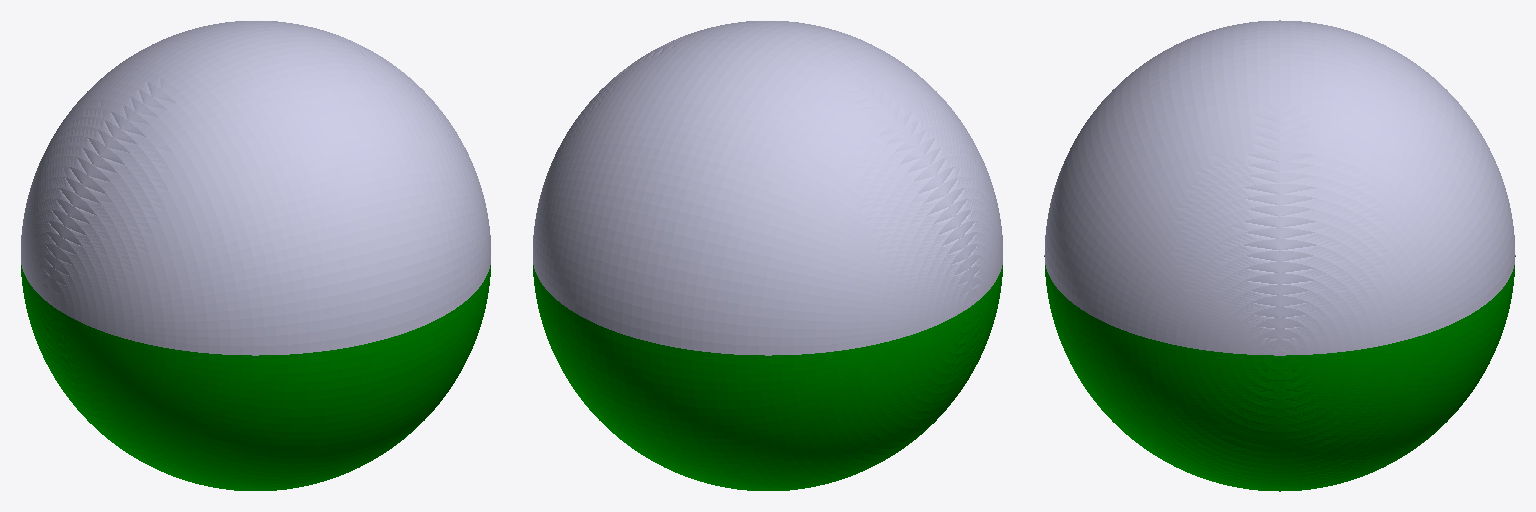
File: Шар-5.obj
The picture shows the model from 3 angles: view 1: azimuth 30°, elevation 25°; view 2: azimuth 150°, elevation 25°; view 3: azimuth 270°, elevation 25°; orthographic projection.
Bounding box in the file's own units: 10 × 10 × 10.